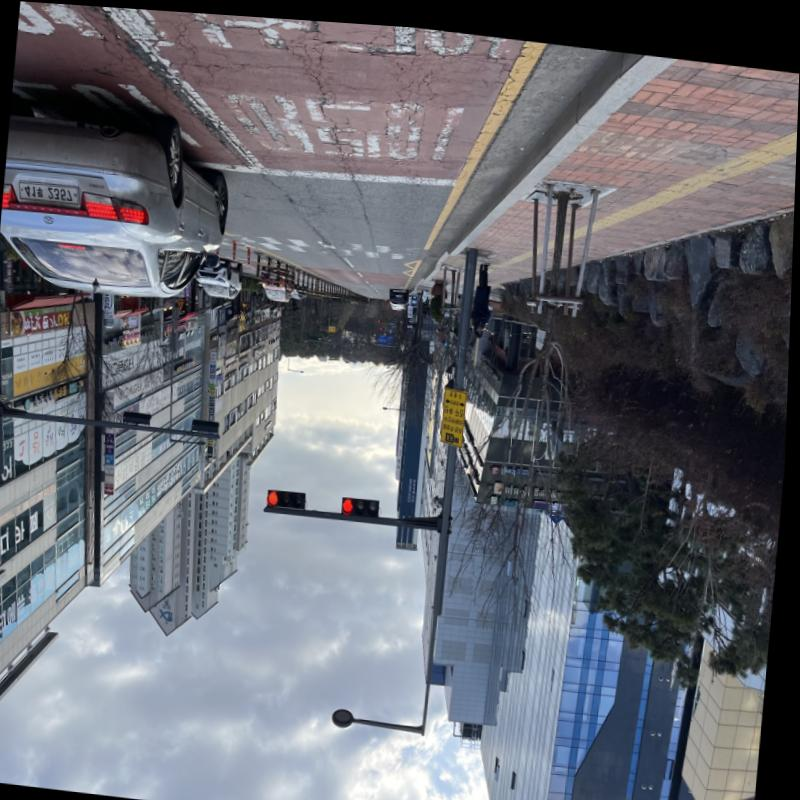red: (270, 485, 283, 502), (346, 492, 358, 510)
